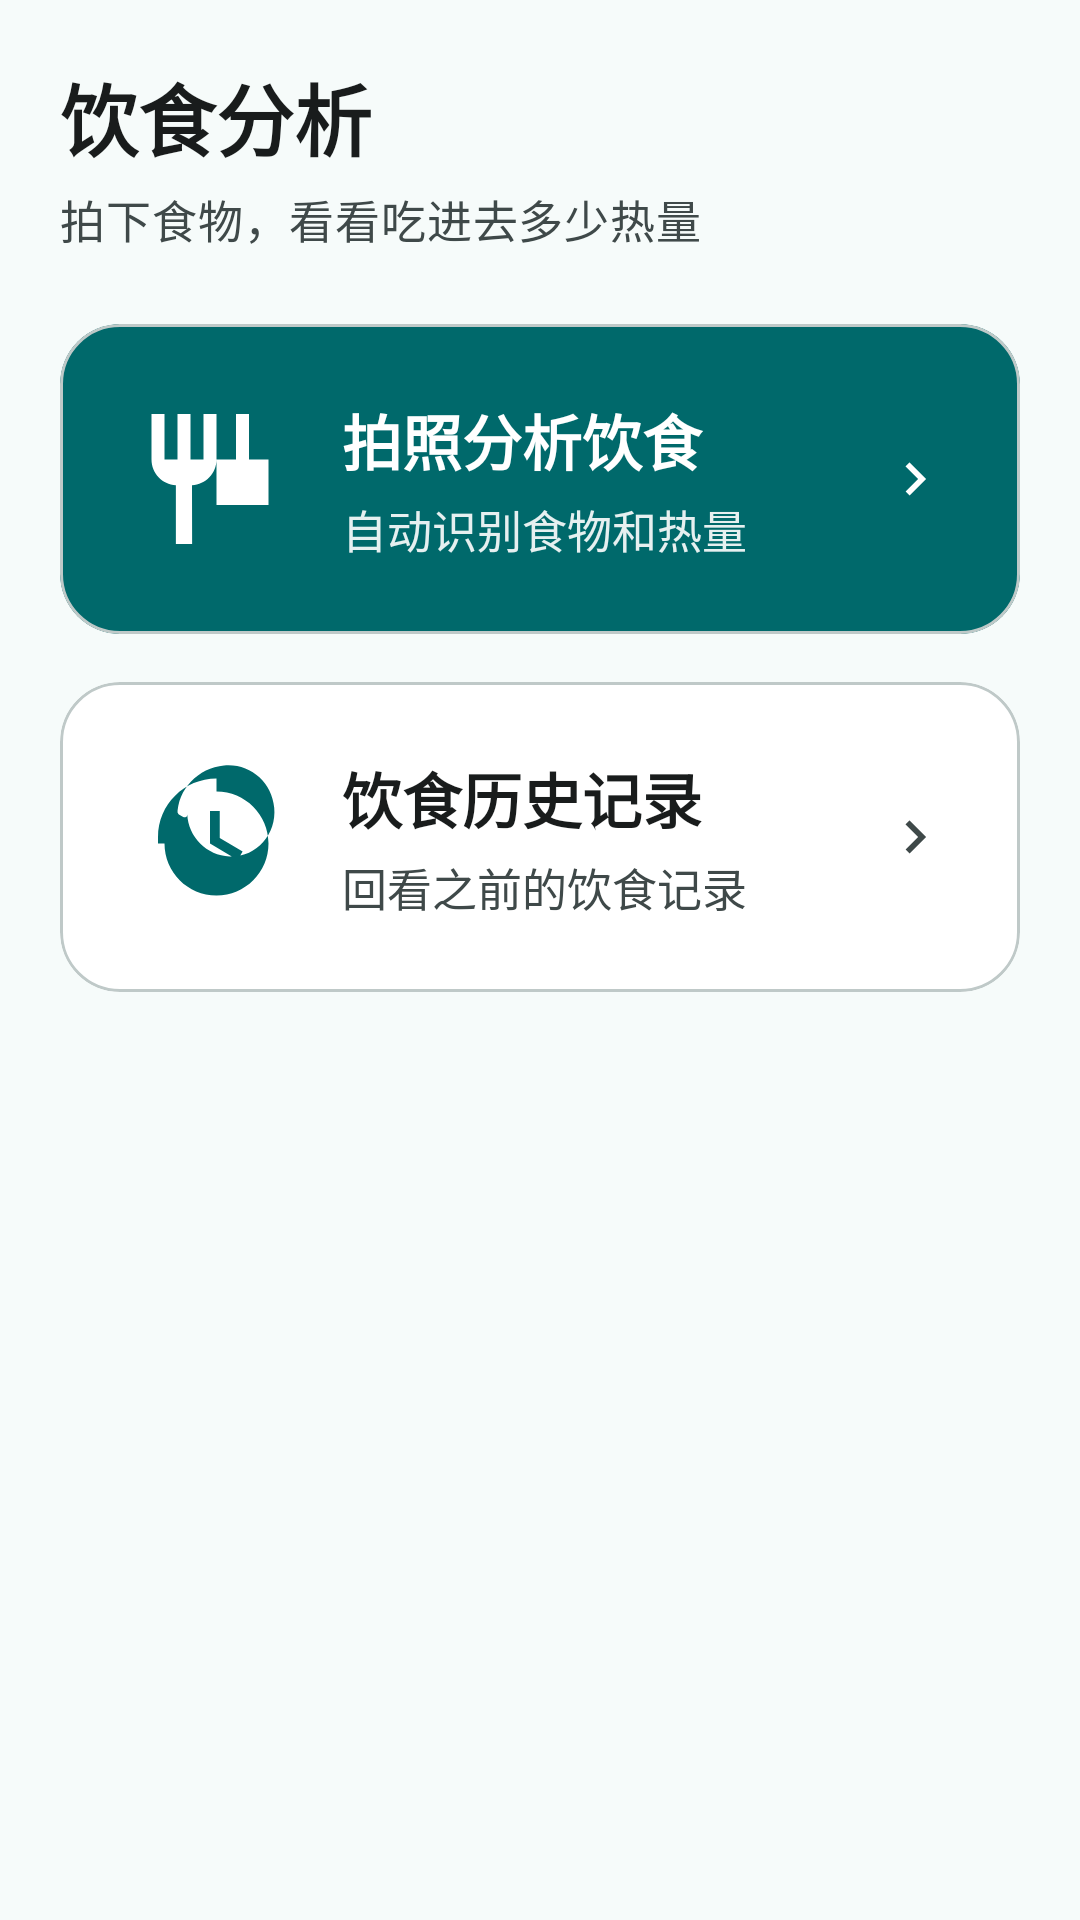

Where to tap for icons on this 1080px×1920px app screen, as [x,y]:
进入: [915,479], [915,837]
